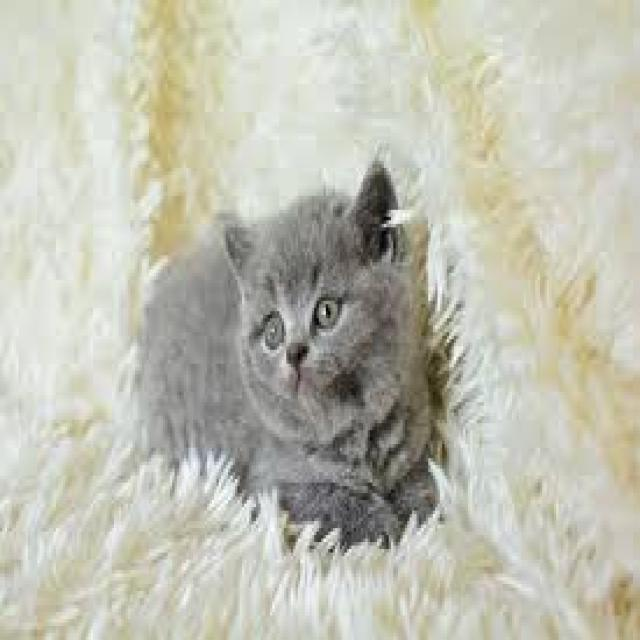british shorthair: (124, 117, 572, 598)
